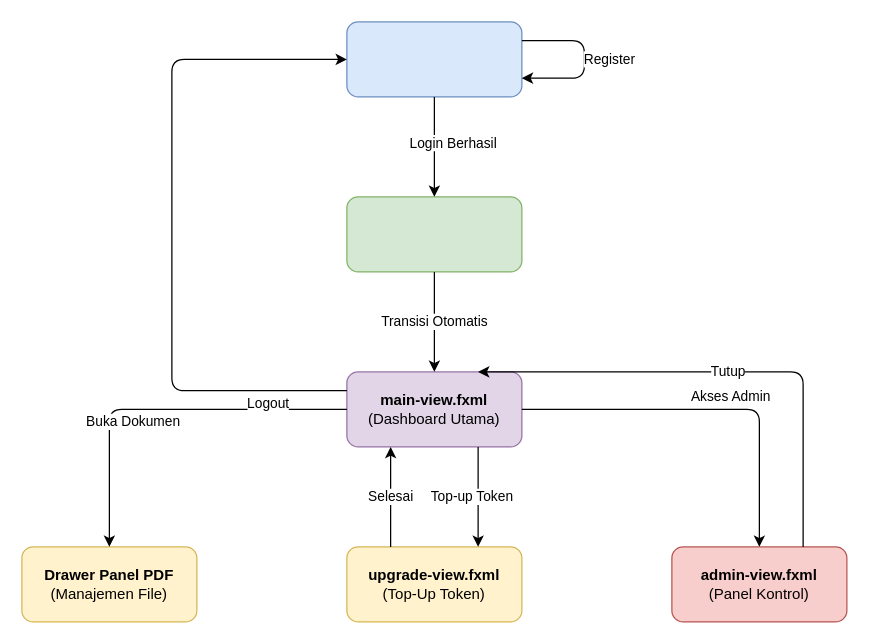
The diagram is 869 pixels wide and 644 high, and some of its shapes have lost their labels. The shapes that lost their labels are listed below. From the top down, each one's centre as x and y in pixels, then its label:
pixel 434 59: login-view.fxml (Autentikasi)
pixel 434 234: landing-view.fxml (Animasi Masuk)
